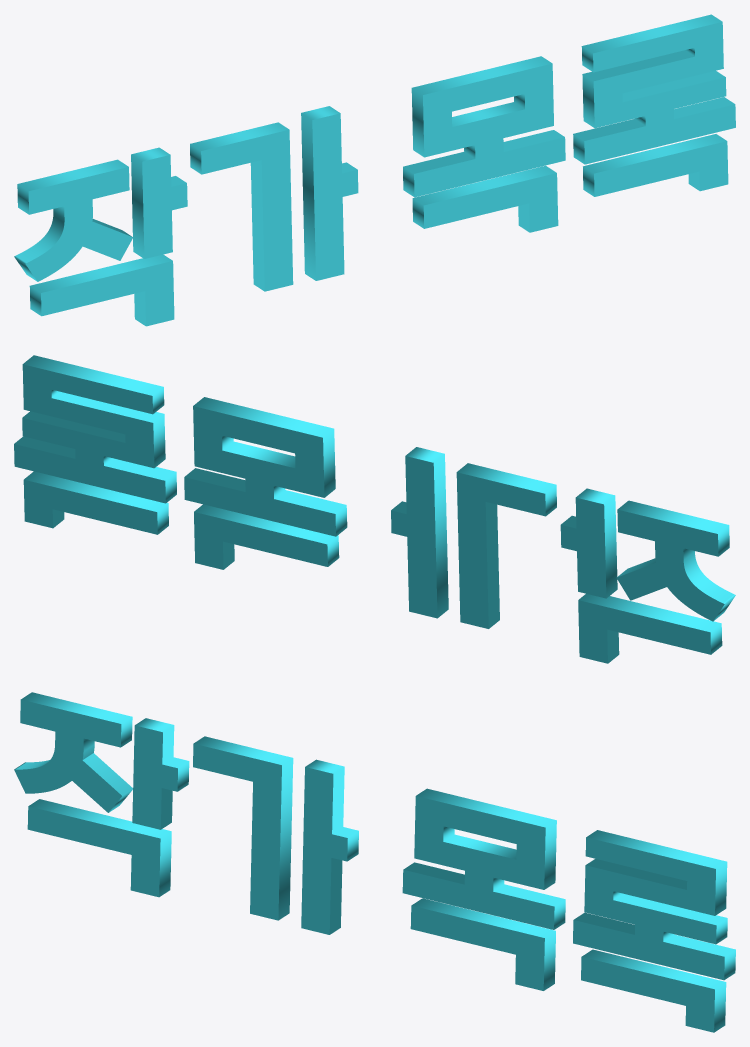
The picture shows the model from 3 angles, top to bottom: view 1: azimuth 30°, elevation 25°; view 2: azimuth 150°, elevation 25°; view 3: azimuth 330°, elevation 25°; orthographic projection.
Visible parts, largest first — view 1: 텍스트.001; view 2: 텍스트.001; view 3: 텍스트.001.
Boxes of the visible parts, x1,y1,x2,y2 form: 텍스트.001: [14, 14, 735, 326]; 텍스트.001: [14, 355, 735, 663]; 텍스트.001: [14, 692, 735, 1032].
Size of the model in its own units: 3.29 by 0.7214 by 0.1212.
